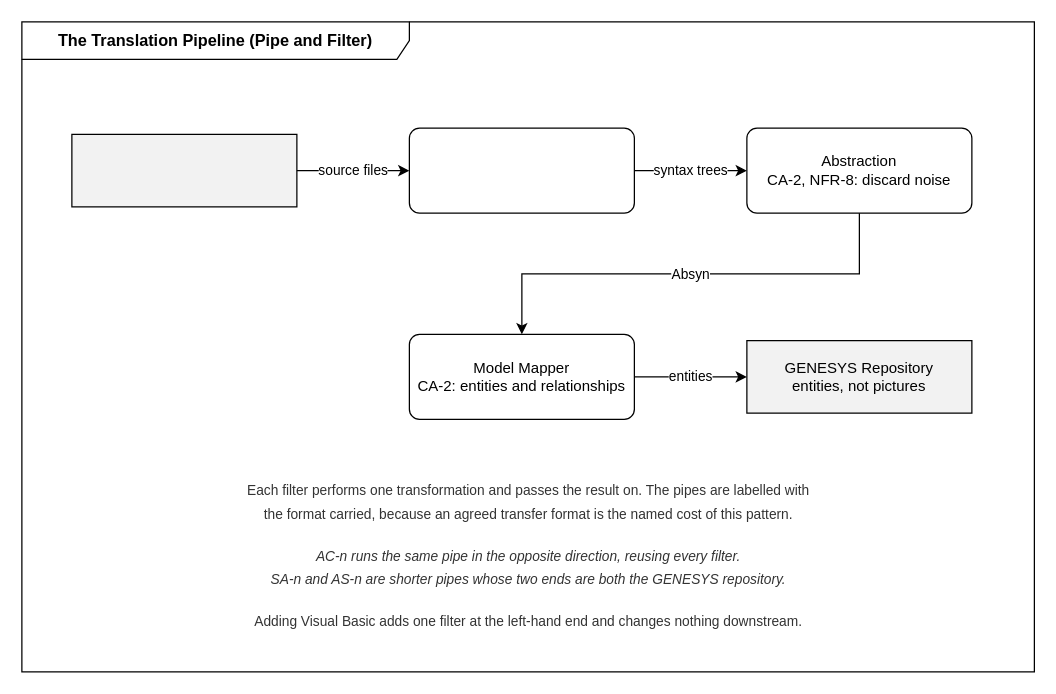
Some shapes in this 1056 by 694 pixel diagram are drawn without their labels. The centre of each missing label's shape, as x and y in pixels:
"Code Extractor CA-1: build the CFG" belongs at point 521,170.
"Source Repository C# or Visual Basic" belongs at point 184,170.
